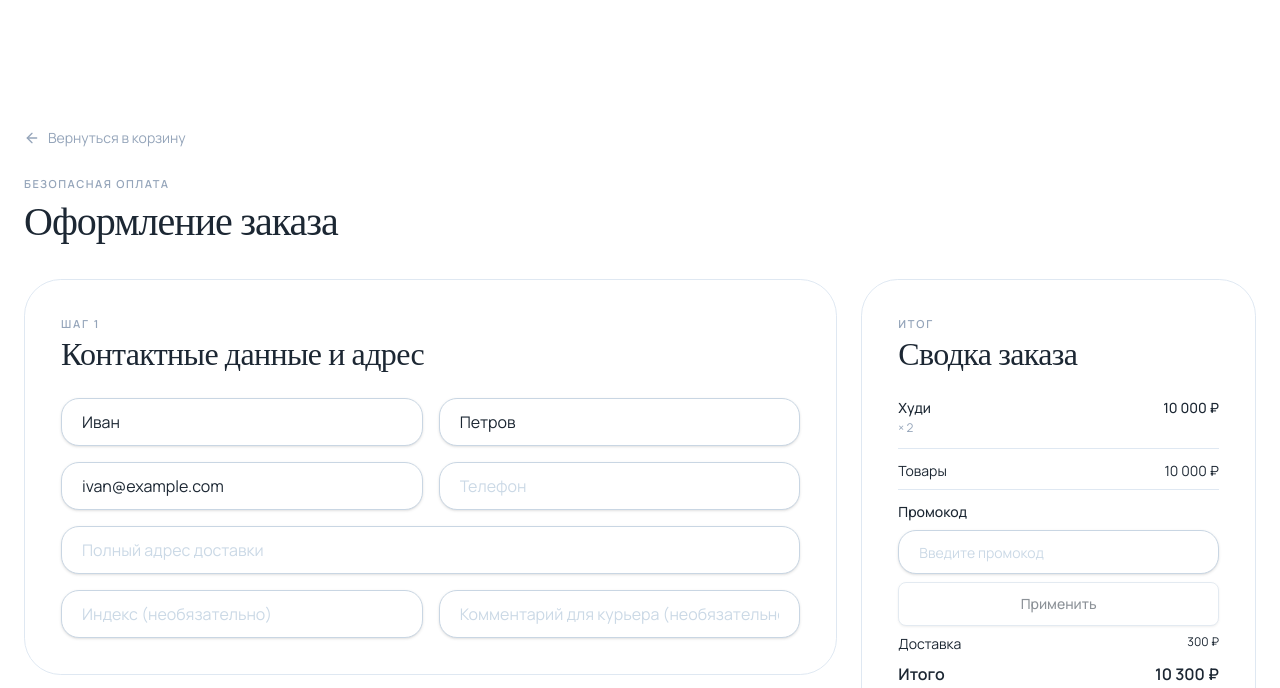
Test: Checkout promo code › shows an API error for an invalid code and keeps the full price
Type "OLD" into the field labelled "промокод" at x=1059, y=552, box [898,530,1219,574]
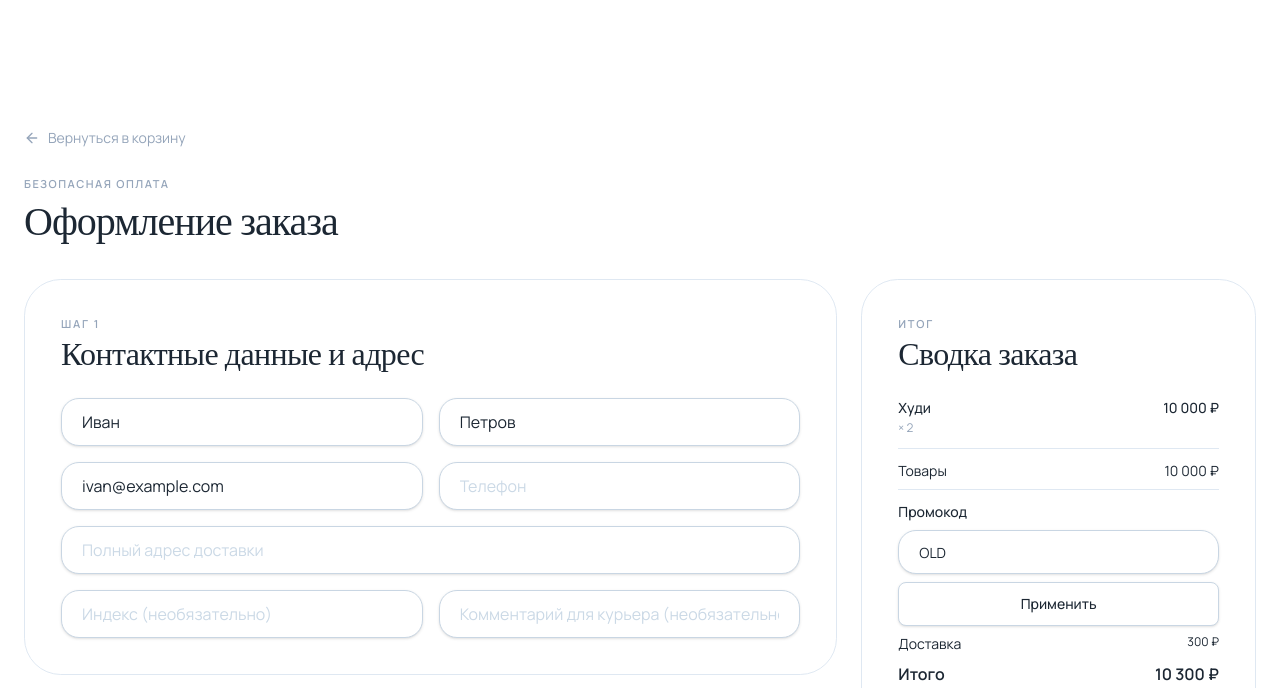
Click the button "Применить" at x=1059, y=604, box [898,582,1219,626]
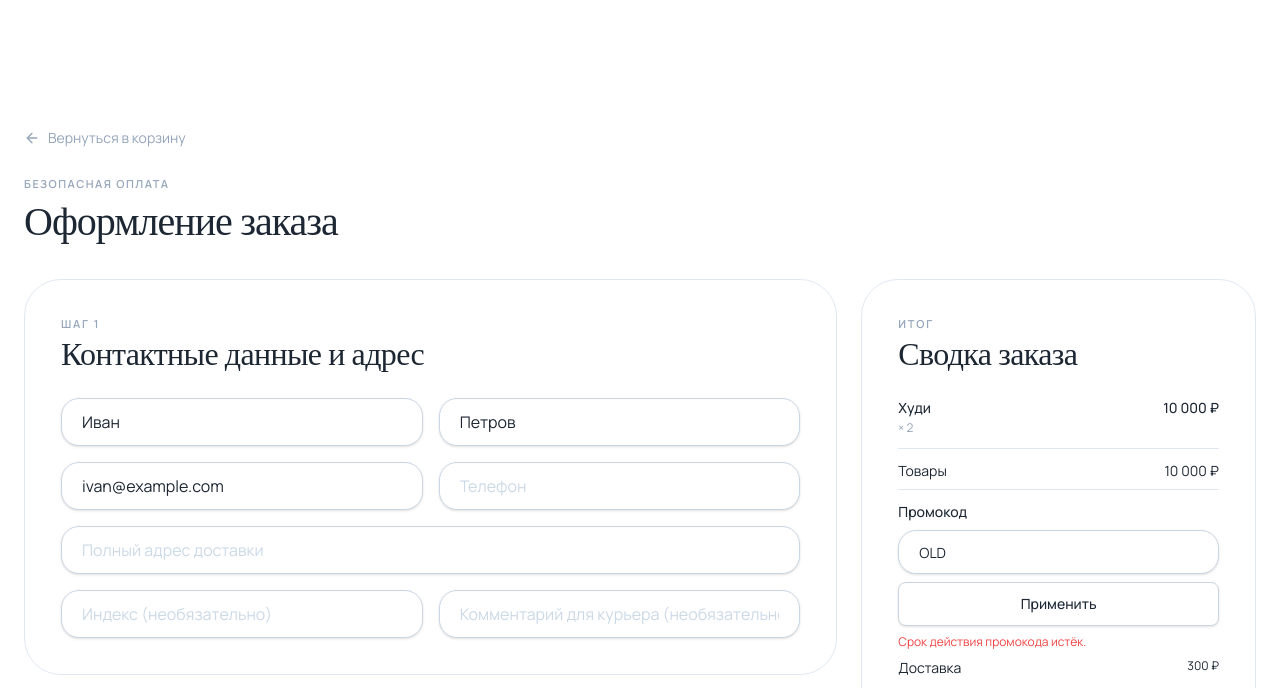
Expected: the message shows "истёк", [898,633,1086,650]
